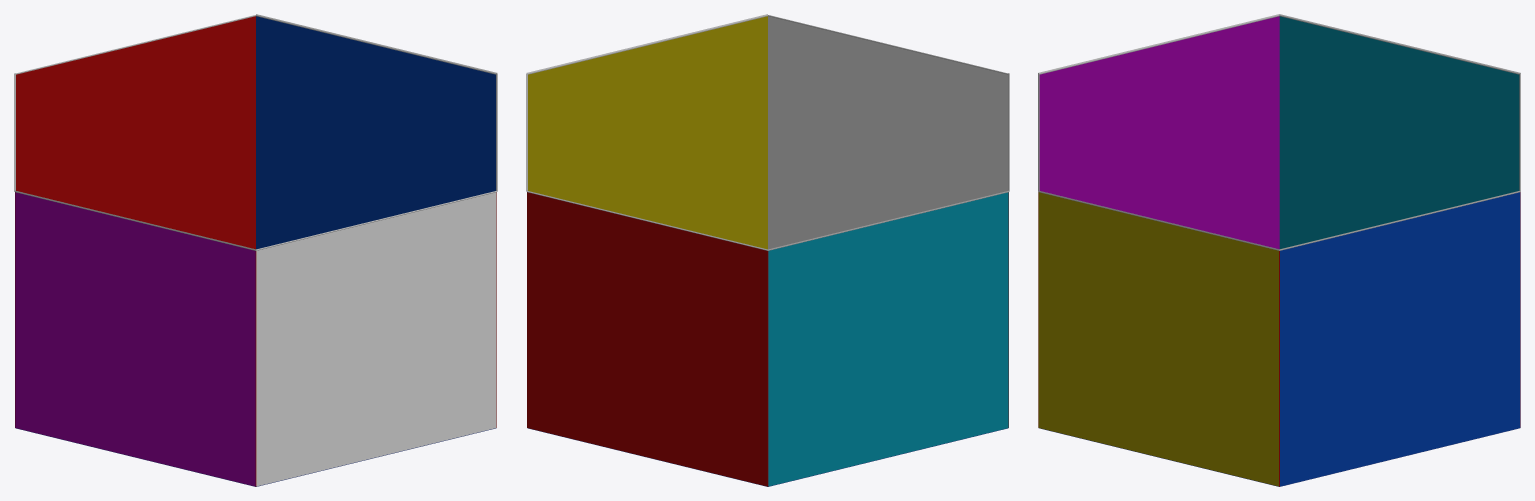
File: HOF3D.fbx
3 views of the same model, side by side, from view 1: azimuth 30°, elevation 25°; view 2: azimuth 150°, elevation 25°; view 3: azimuth 270°, elevation 25° (orthographic).
Parts seen in each view (by area): view 1: polySurface2; view 2: polySurface2; view 3: polySurface2.
Boxes of the visible parts, box(x1,y1,x2,y2) form: polySurface2: box(14, 14, 497, 486); polySurface2: box(526, 14, 1009, 486); polySurface2: box(1038, 14, 1520, 486).
Size of the model in its own units: 32.71 by 15.39 by 28.32.
